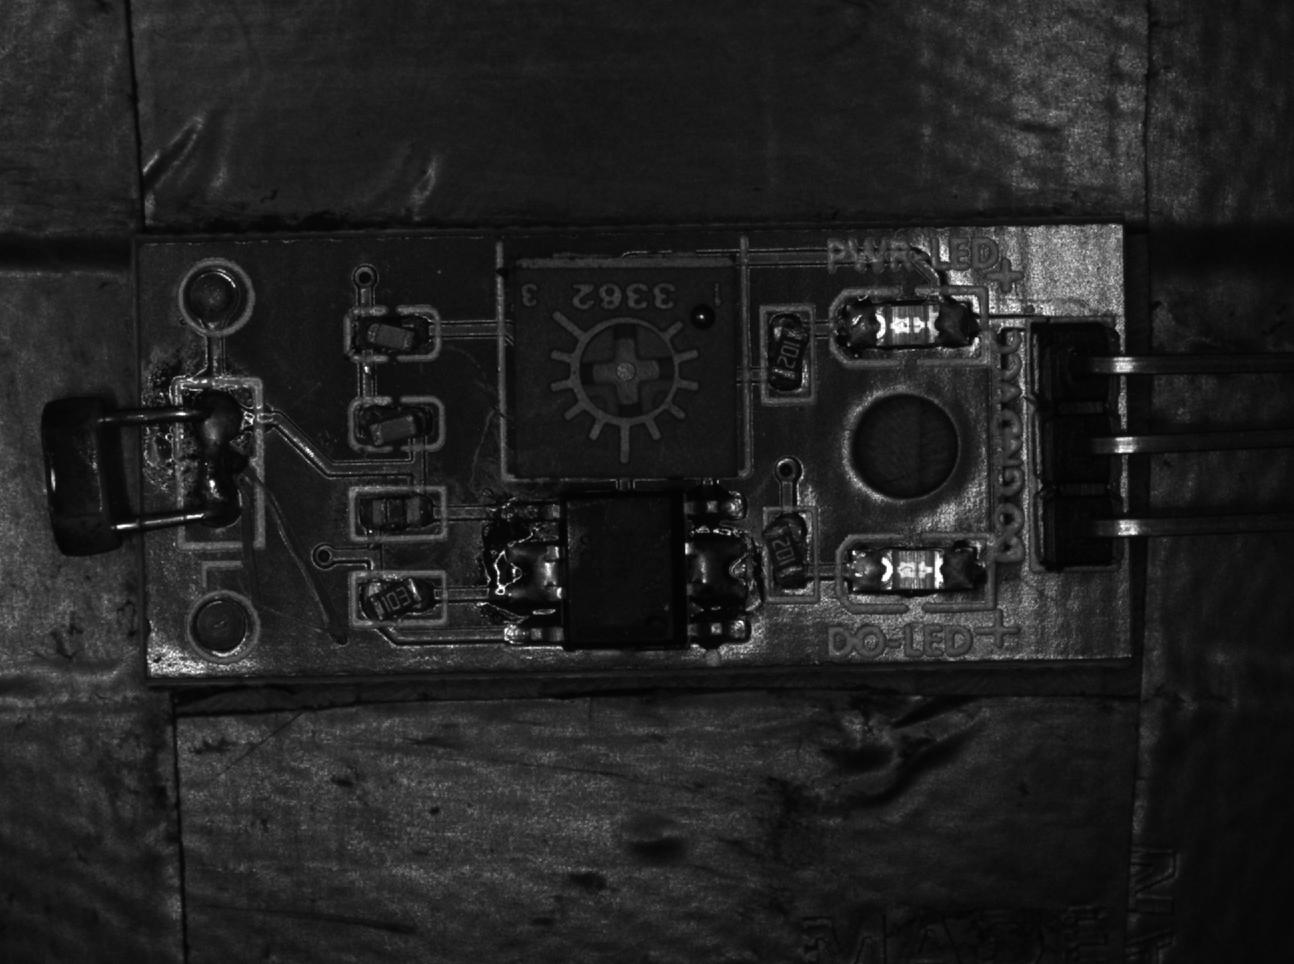bridge: (171, 382, 265, 543), (487, 534, 568, 619), (688, 528, 754, 609)
lifted: (350, 573, 449, 625), (345, 309, 438, 360), (352, 399, 444, 448), (761, 310, 810, 401), (766, 508, 814, 599)
miss: (350, 488, 446, 536)
